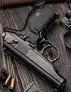gun: (1, 1, 71, 92)
